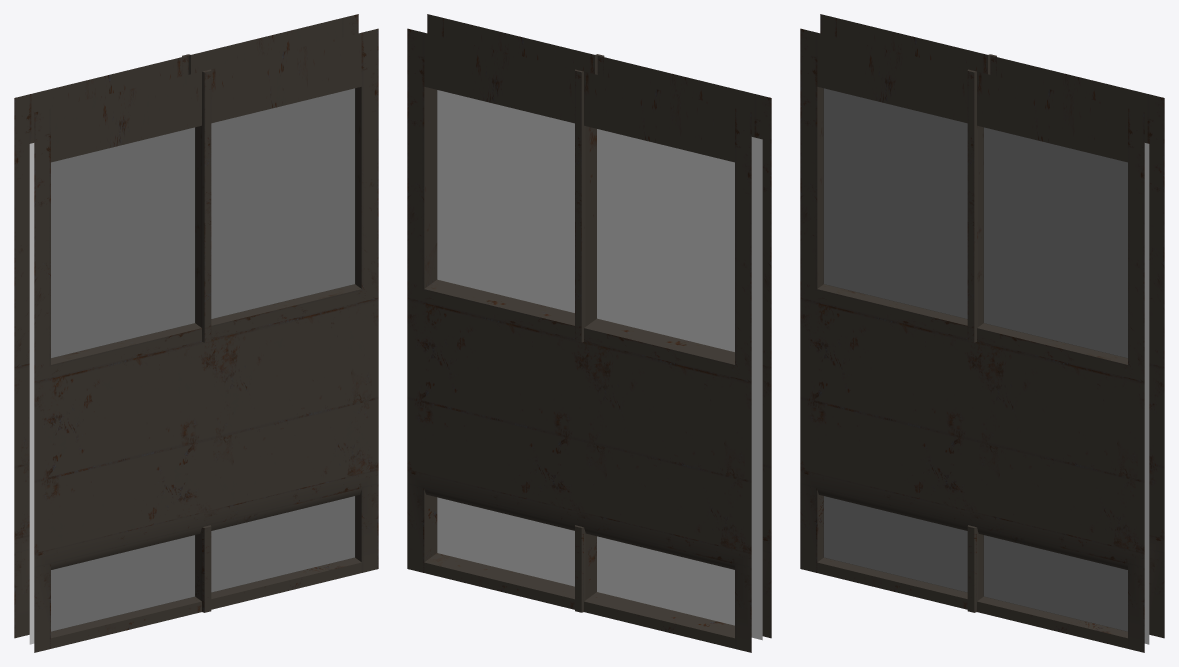
File: Metal_Window_Half.gltf
3 views of the same model, side by side, from view 1: azimuth 30°, elevation 25°; view 2: azimuth 150°, elevation 25°; view 3: azimuth 330°, elevation 25° (orthographic).
Visible parts, largest first — view 1: Metal_Window_Half; view 2: Metal_Window_Half; view 3: Metal_Window_Half.
Boxes of the visible parts, x1,y1,x2,y2 form: Metal_Window_Half: (14,14,378,652); Metal_Window_Half: (407,14,771,652); Metal_Window_Half: (800,14,1164,652).
Bounding box in the file's own units: 2 × 3 × 0.2286.
3 materials, 1 textured.
